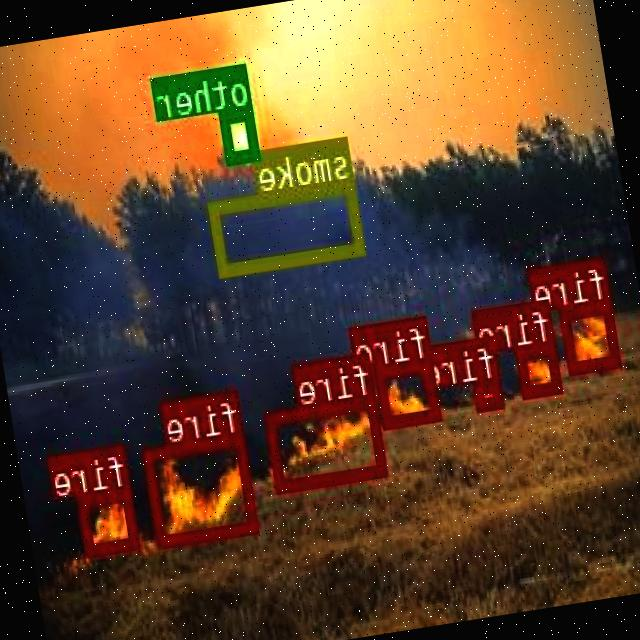fire: (146, 430, 260, 544), (266, 394, 390, 489), (560, 299, 624, 371), (377, 358, 444, 426), (79, 484, 142, 554), (518, 340, 564, 397), (475, 378, 507, 410)
smoke: (211, 180, 366, 274)
